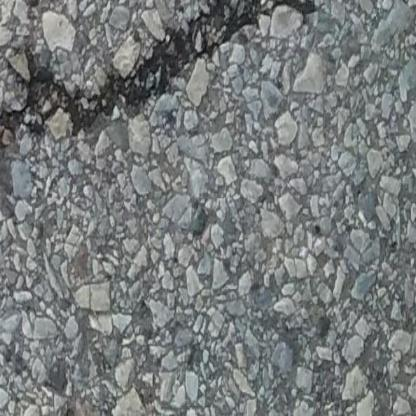Cracks: (0, 0, 320, 154)
